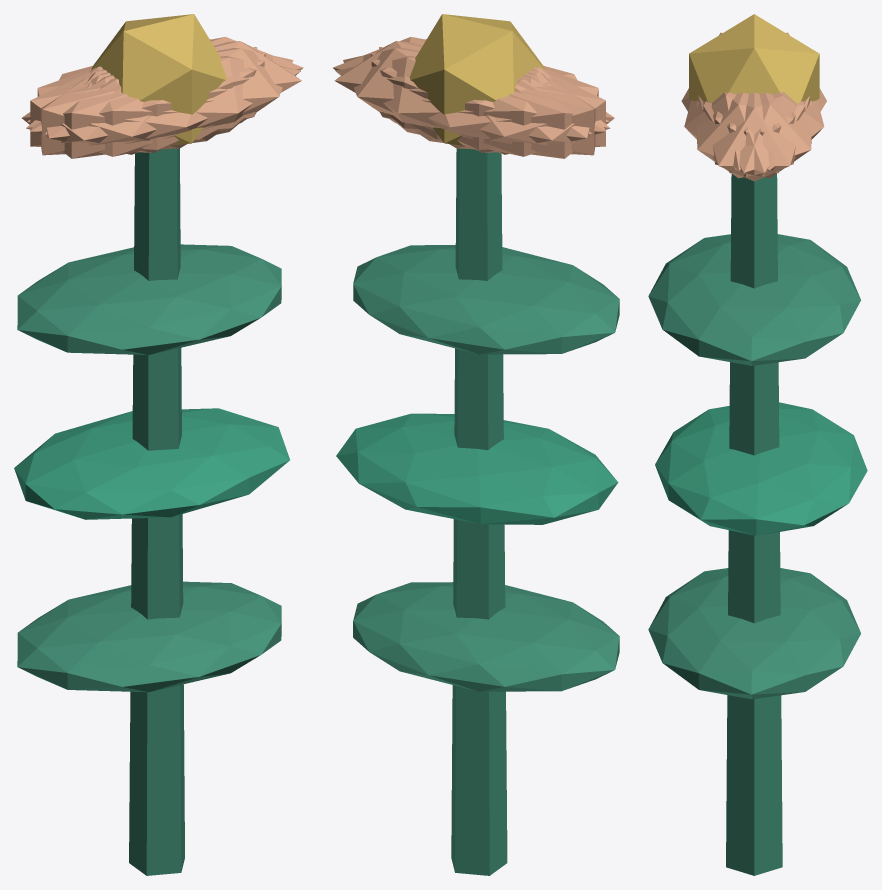
File: aleurites-moluccanus.glb
The picture shows the model from 3 angles, left to right: view 1: azimuth 30°, elevation 25°; view 2: azimuth 150°, elevation 25°; view 3: azimuth 270°, elevation 25°; orthographic projection.
Parts seen in each view (by area): view 1: stem, leaf2, leaf1, leaf0, center, petal1, petal6, petal2, petal5, petal7, petal0, petal4 (+2 smaller); view 2: stem, leaf1, leaf2, leaf0, center, petal8, petal3, petal7, petal4, petal2, petal0, petal5 (+2 smaller); view 3: stem, leaf2, leaf1, leaf0, center, petal0, petal5, petal4, petal8, petal1.
Boxes of the visible parts, x1=… form: stem: x1=129, y1=148, x2=184, y2=875; leaf2: x1=17, y1=244, x2=281, y2=354; leaf1: x1=14, y1=408, x2=289, y2=519; leaf0: x1=17, y1=581, x2=281, y2=692; center: x1=91, y1=14, x2=226, y2=145; petal1: x1=26, y1=56, x2=300, y2=156; petal6: x1=22, y1=68, x2=220, y2=158; petal2: x1=41, y1=47, x2=257, y2=155; petal5: x1=44, y1=48, x2=293, y2=149; petal7: x1=30, y1=53, x2=265, y2=152; petal0: x1=91, y1=41, x2=301, y2=140; petal4: x1=27, y1=37, x2=303, y2=131; stem: x1=451, y1=148, x2=507, y2=875; leaf1: x1=336, y1=413, x2=618, y2=524; leaf2: x1=353, y1=245, x2=619, y2=354; leaf0: x1=353, y1=582, x2=619, y2=691; center: x1=409, y1=14, x2=545, y2=145; petal8: x1=335, y1=56, x2=610, y2=156; petal3: x1=415, y1=68, x2=614, y2=158; petal7: x1=379, y1=47, x2=595, y2=155; petal4: x1=343, y1=48, x2=591, y2=149; petal2: x1=371, y1=52, x2=605, y2=152; petal0: x1=334, y1=41, x2=545, y2=140; petal5: x1=333, y1=37, x2=608, y2=131; stem: x1=726, y1=174, x2=782, y2=875; leaf2: x1=648, y1=234, x2=860, y2=365; leaf1: x1=655, y1=402, x2=867, y2=535; leaf0: x1=648, y1=568, x2=860, y2=699; center: x1=689, y1=14, x2=819, y2=103; petal0: x1=698, y1=92, x2=810, y2=181; petal5: x1=696, y1=92, x2=805, y2=178; petal4: x1=703, y1=92, x2=811, y2=178; petal8: x1=713, y1=92, x2=824, y2=170; petal1: x1=684, y1=92, x2=795, y2=170.
Bounding box in the file's own units: 0.1498 × 0.4312 × 0.103.
